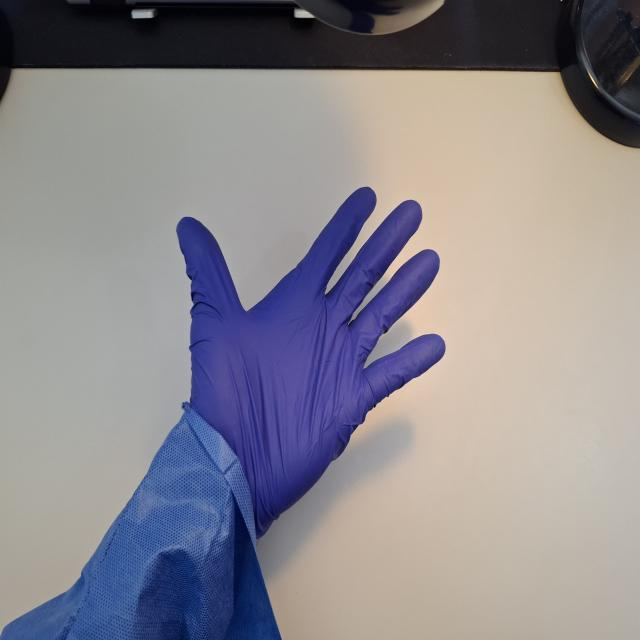glove_on: (173, 183, 448, 539)
